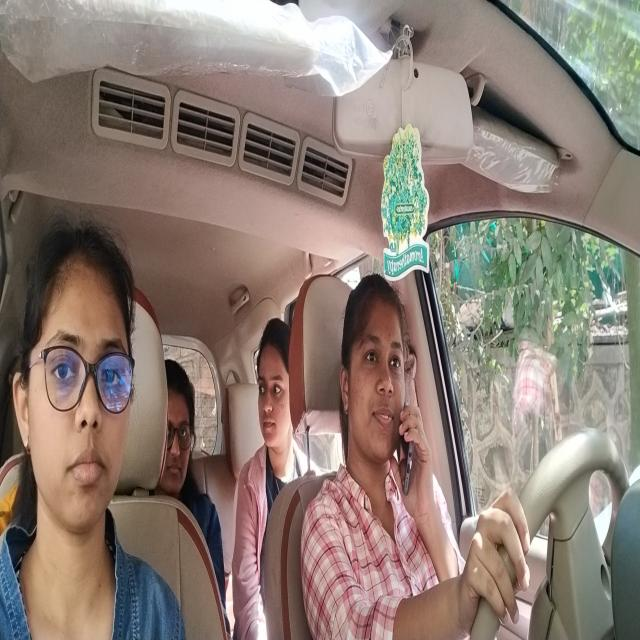mobile: (394, 413, 422, 502)
person: (26, 235, 136, 531), (347, 280, 401, 460), (259, 324, 291, 449), (165, 358, 194, 486)
